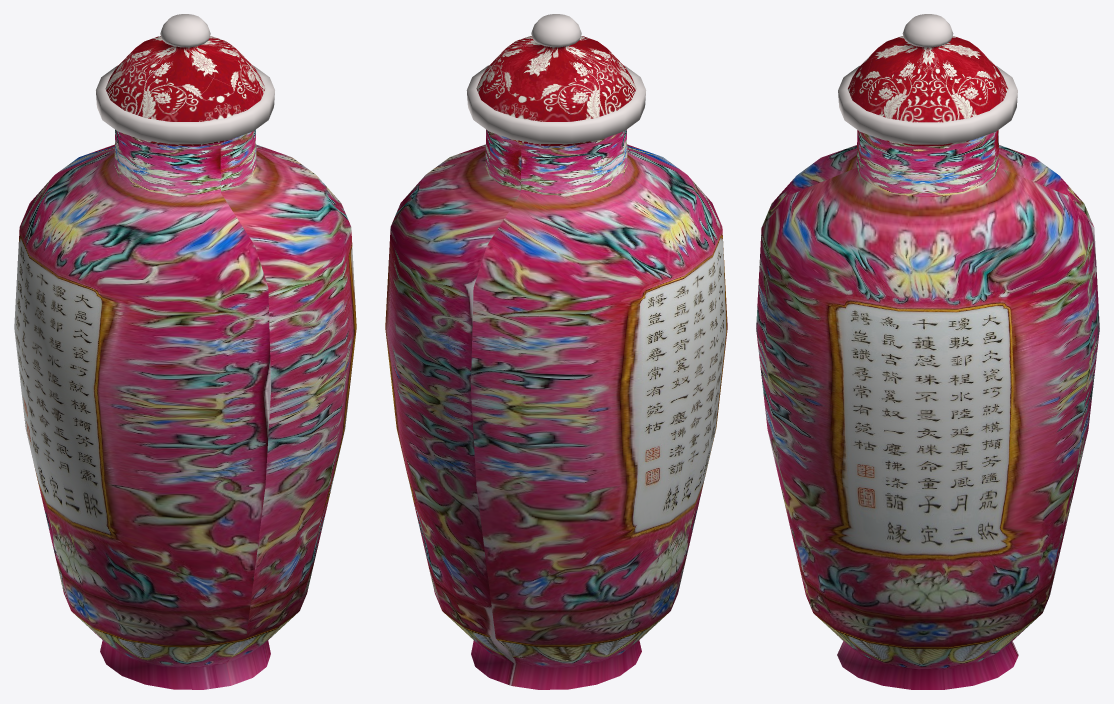
File: vase.glb
3 views of the same model, side by side, from view 1: azimuth 30°, elevation 25°; view 2: azimuth 150°, elevation 25°; view 3: azimuth 270°, elevation 25° (orthographic).
Visible parts, largest first — view 1: Cylinder, Cylinder.001, Cylinder.003, Cylinder.004; view 2: Cylinder, Cylinder.001, Cylinder.003, Cylinder.004; view 3: Cylinder, Cylinder.001, Cylinder.003, Cylinder.004.
Part boxes in pixels (<box>): Cylinder: <box>14,129,356,689</box>; Cylinder.001: <box>105,36,265,145</box>; Cylinder.003: <box>96,65,274,144</box>; Cylinder.004: <box>160,14,210,47</box>; Cylinder: <box>385,129,727,689</box>; Cylinder.001: <box>476,36,636,145</box>; Cylinder.003: <box>466,65,646,143</box>; Cylinder.004: <box>531,14,581,47</box>; Cylinder: <box>756,130,1099,689</box>; Cylinder.001: <box>848,36,1007,146</box>; Cylinder.003: <box>838,65,1017,144</box>; Cylinder.004: <box>902,14,953,47</box>.
Bounding box in the file's own units: 0.1101 × 0.2284 × 0.1118.
4 materials, 3 textured.
